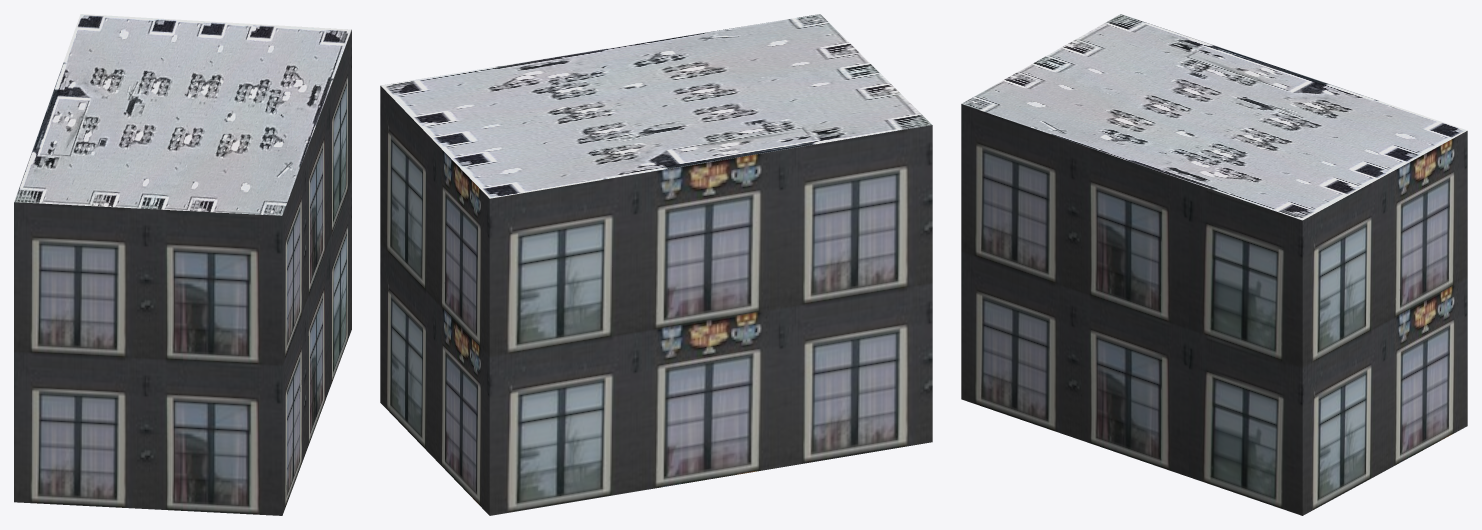
Rendered from ResTex__2111.fbx.
3 renders of one model, left to right at view 1: azimuth 30°, elevation 25°; view 2: azimuth 150°, elevation 25°; view 3: azimuth 270°, elevation 25°, orthographic. The views are drawn at different scales.
Parts seen in each view (by area): view 1: CityEngineMaterial_22_m, CityEngineMaterial_8_m; view 2: CityEngineMaterial_22_m, CityEngineMaterial_8_m; view 3: CityEngineMaterial_22_m, CityEngineMaterial_8_m.
Part boxes in pixels (box(x1,y1,x2,y2)): CityEngineMaterial_22_m: box(14, 30, 351, 515); CityEngineMaterial_8_m: box(14, 14, 351, 215); CityEngineMaterial_22_m: box(380, 86, 932, 515); CityEngineMaterial_8_m: box(380, 14, 931, 198); CityEngineMaterial_22_m: box(961, 104, 1467, 515); CityEngineMaterial_8_m: box(961, 14, 1467, 220).
Size of the model in its own units: 9 by 6 by 9.32.
2 materials, 2 textured.
